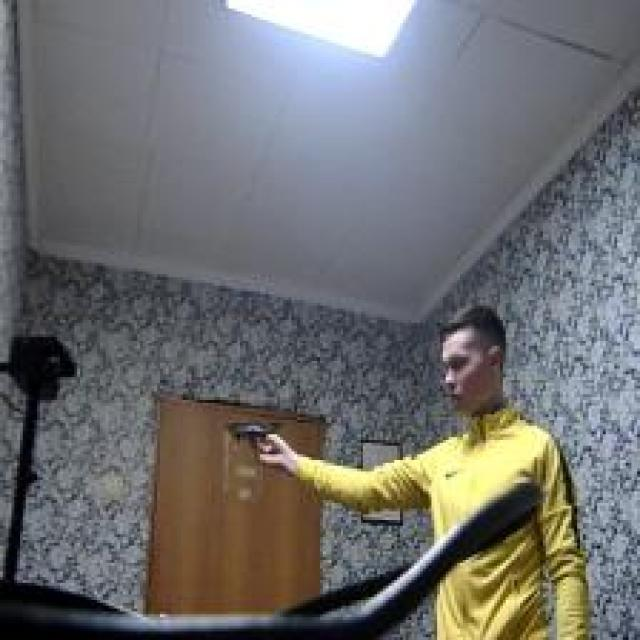drone: (223, 394, 288, 454)
